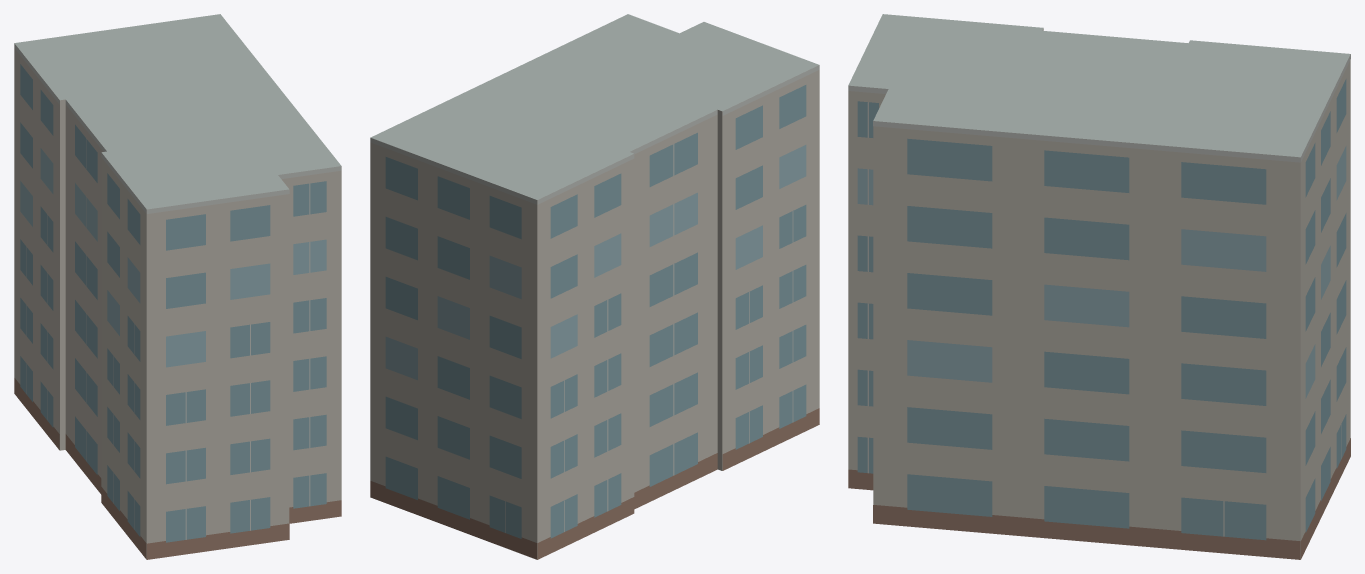
Rendered from survey-upis-32737044.glb.
3 views of the same model, side by side, from view 1: azimuth 30°, elevation 25°; view 2: azimuth 150°, elevation 25°; view 3: azimuth 270°, elevation 25° (orthographic). The views are drawn at different scales.
Parts seen in each view (by area): view 1: survey-upis-32737044.tmp; view 2: survey-upis-32737044.tmp; view 3: survey-upis-32737044.tmp.
Part boxes in pixels (bbox=[...]): survey-upis-32737044.tmp: bbox=[14, 14, 341, 559]; survey-upis-32737044.tmp: bbox=[370, 14, 819, 559]; survey-upis-32737044.tmp: bbox=[848, 14, 1350, 559].
Size of the model in its own units: 14.13 by 18.5 by 20.94.
